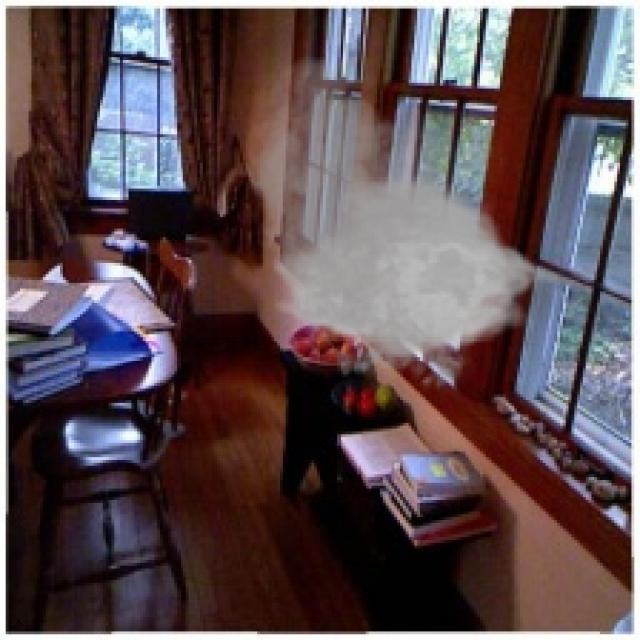smoke: (237, 51, 583, 400)
